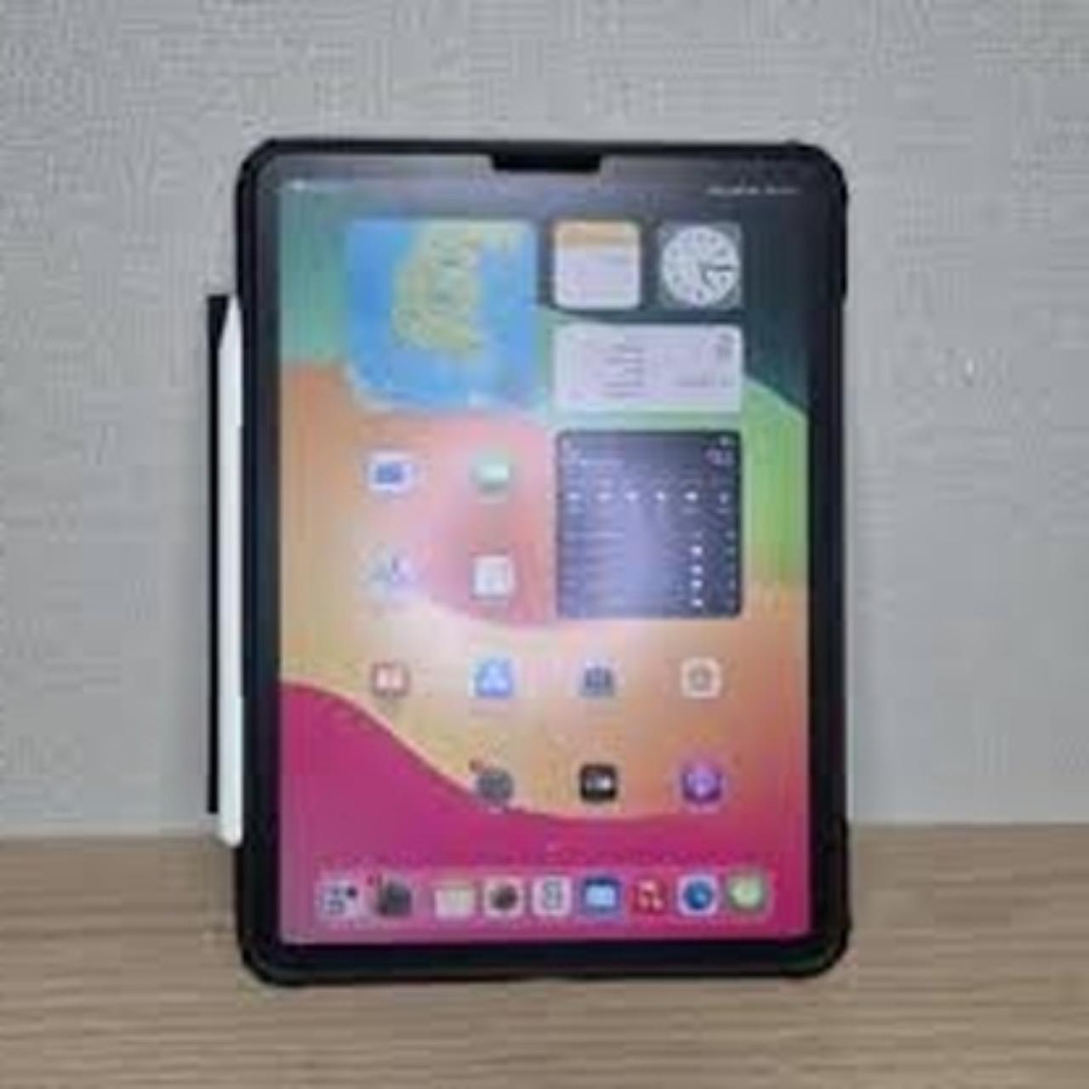Tablet_PC: (184, 131, 861, 995)
